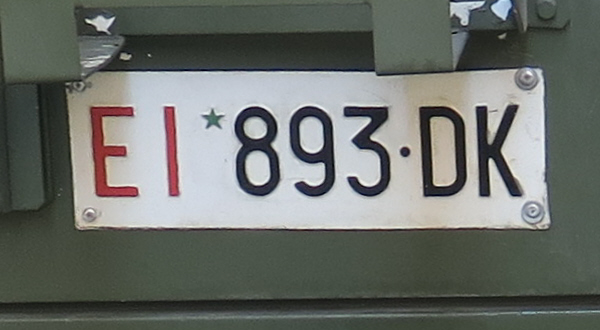license_plate: (66, 67, 553, 231)
